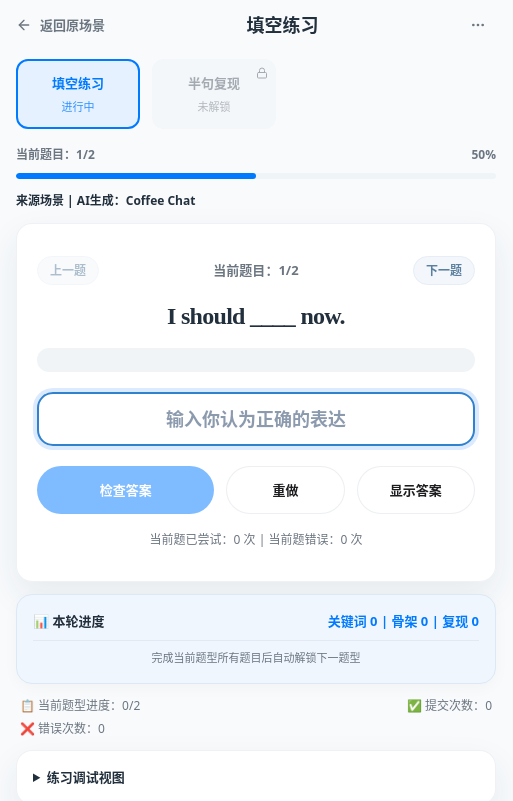
Test: ScenePracticeView 会统计整组和当前题的尝试次数
Type "wrong answer" into the field with placeholder "输入你认为正确的表达" at (256, 419), box [37,392,475,446]
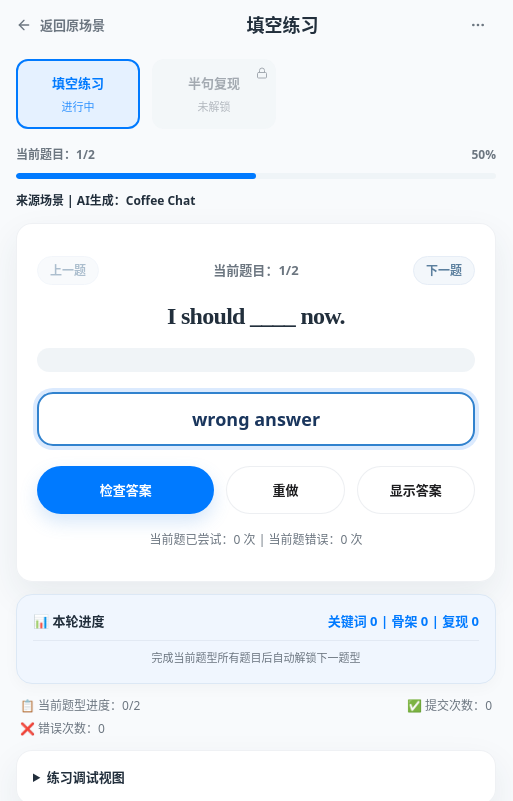
Click the button "检查答案" at (126, 490), box [37,466,214,514]
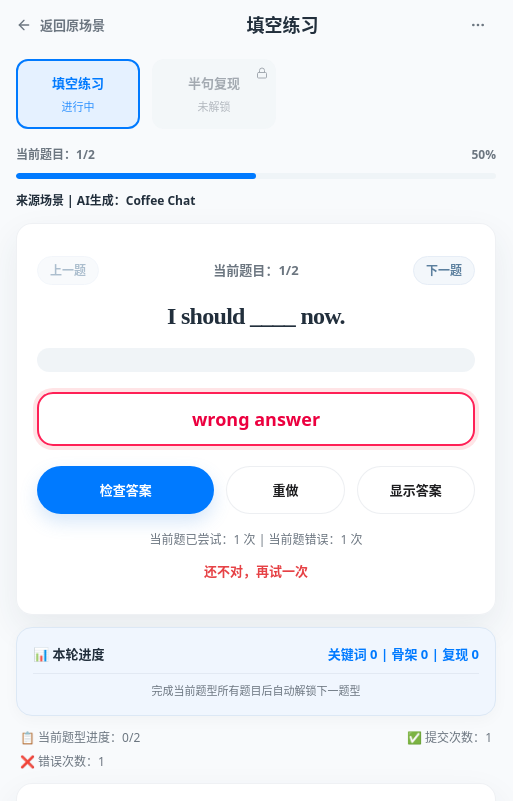
expect the text "还不对，再试一次" is shown: met, box [204,562,308,580]
Replace the text in the field with placeholder "输入你认为正确的表达" with "call it a day" at (256, 419), box [37,392,475,446]
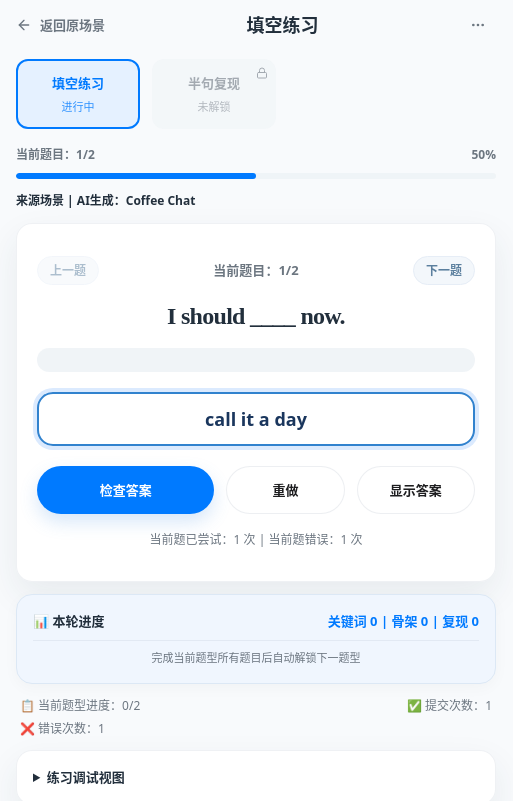
Click the button "检查答案" at (126, 490), box [37,466,214,514]
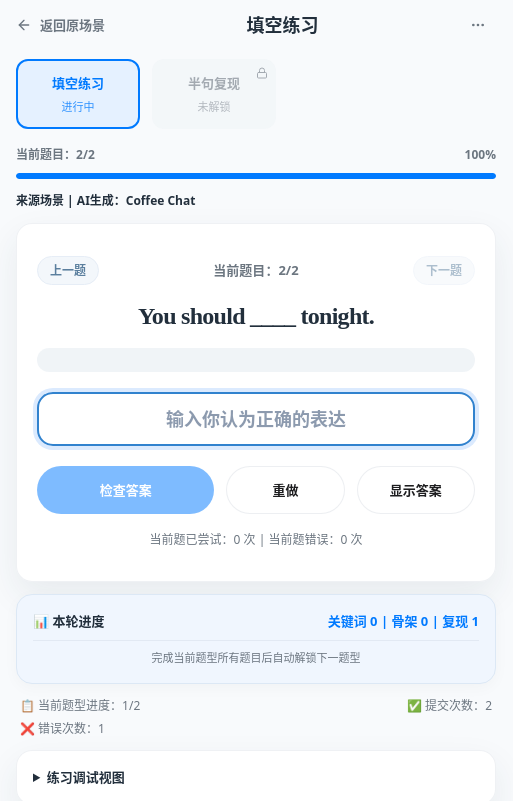
expect the heading "You should ____ tonight." is shown: met, box [138,303,374,329]
